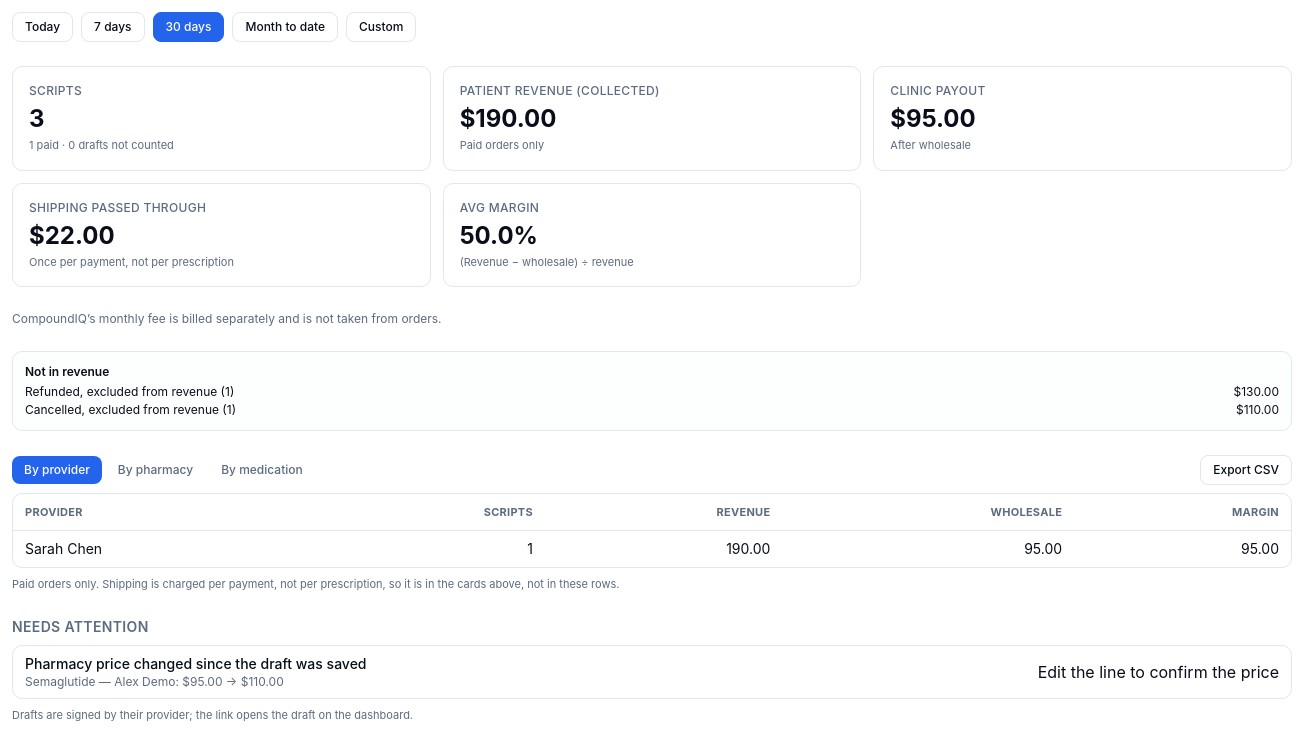
Test case: Practice > Custom period › choosing Custom keeps the cards visible and offers Cancel
Expected: the text "$190.00" is shown, [460,104,556,133]
Click the button with test id "period-custom": (381, 27) [346,12,416,42]
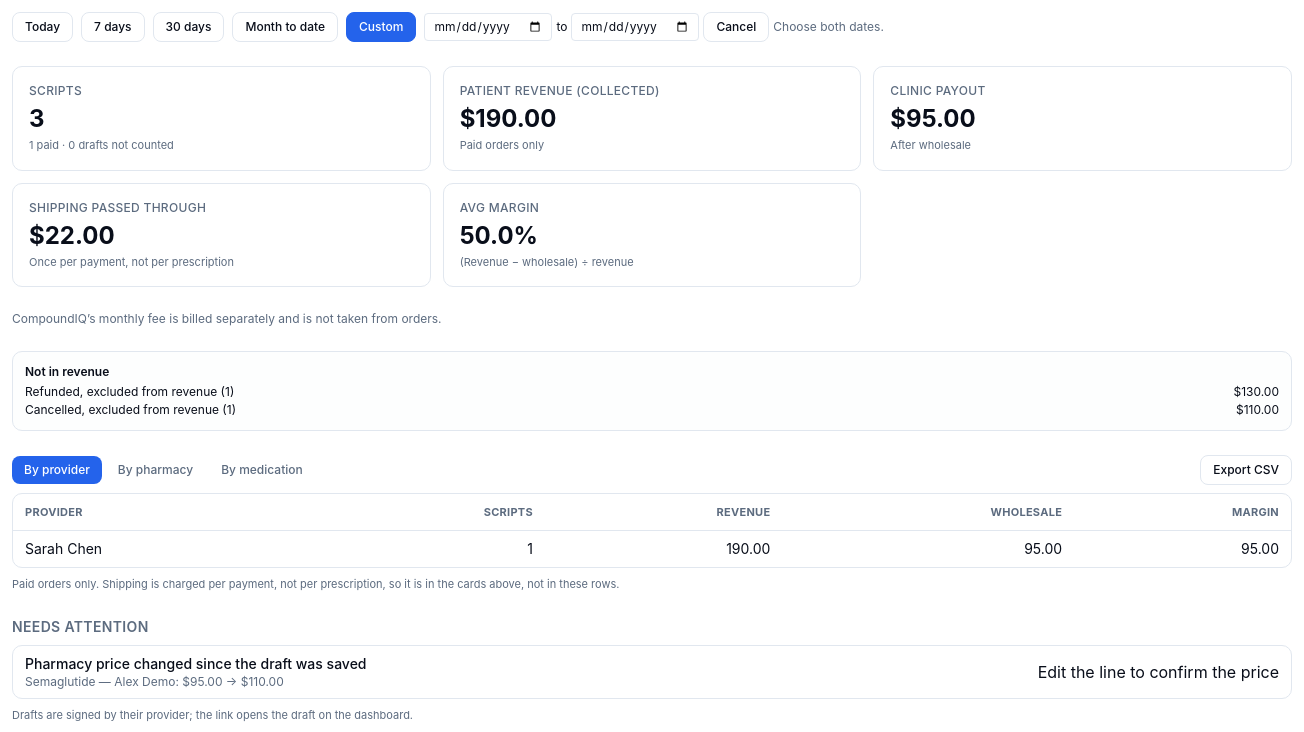
Expected: the date field named "From" is shown, [424,13,552,41]
Expected: the date field named "To" is shown, [571,13,699,41]
Expected: the button "Cancel" is shown, [703,12,769,42]
